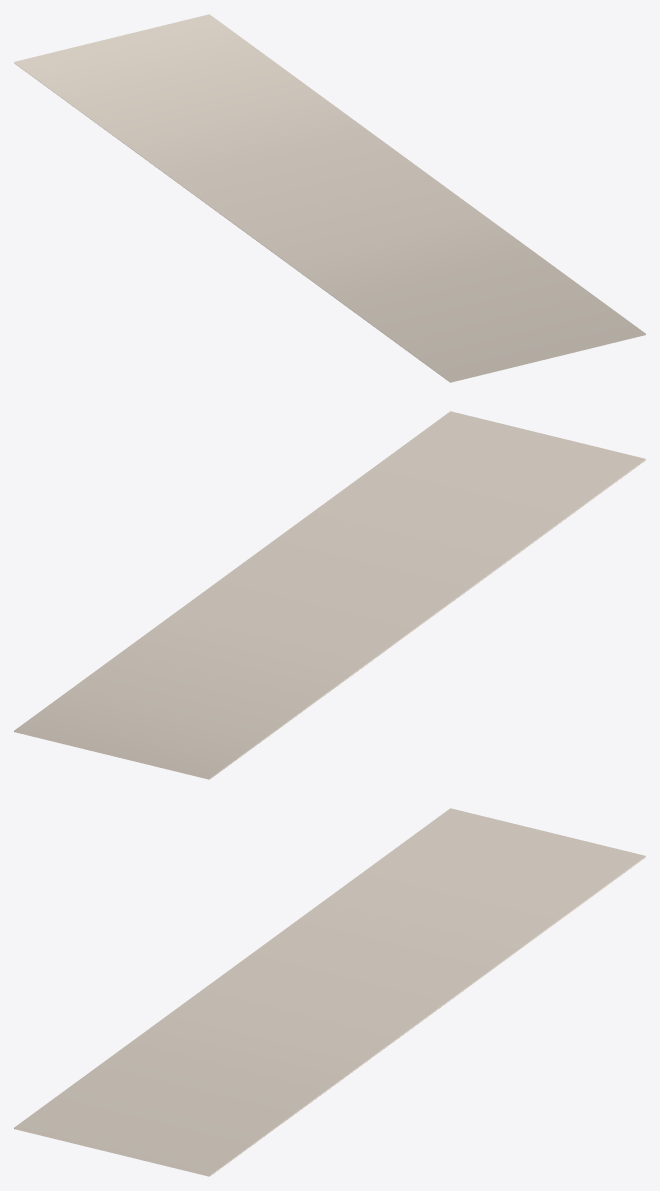
The model's file is Bangdinh.fbx.
The picture shows the model from 3 angles, top to bottom: view 1: azimuth 30°, elevation 25°; view 2: azimuth 150°, elevation 25°; view 3: azimuth 330°, elevation 25°; orthographic projection.
Parts seen in each view (by area): view 1: Bangdinh; view 2: Bangdinh; view 3: Bangdinh.
Boxes of the visible parts, box(x1,y1,x2,y2) form: Bangdinh: box(14, 14, 645, 382); Bangdinh: box(14, 411, 645, 779); Bangdinh: box(14, 808, 645, 1176).
Size of the model in its own units: 1.2 by 0.00863 by 4.65.
